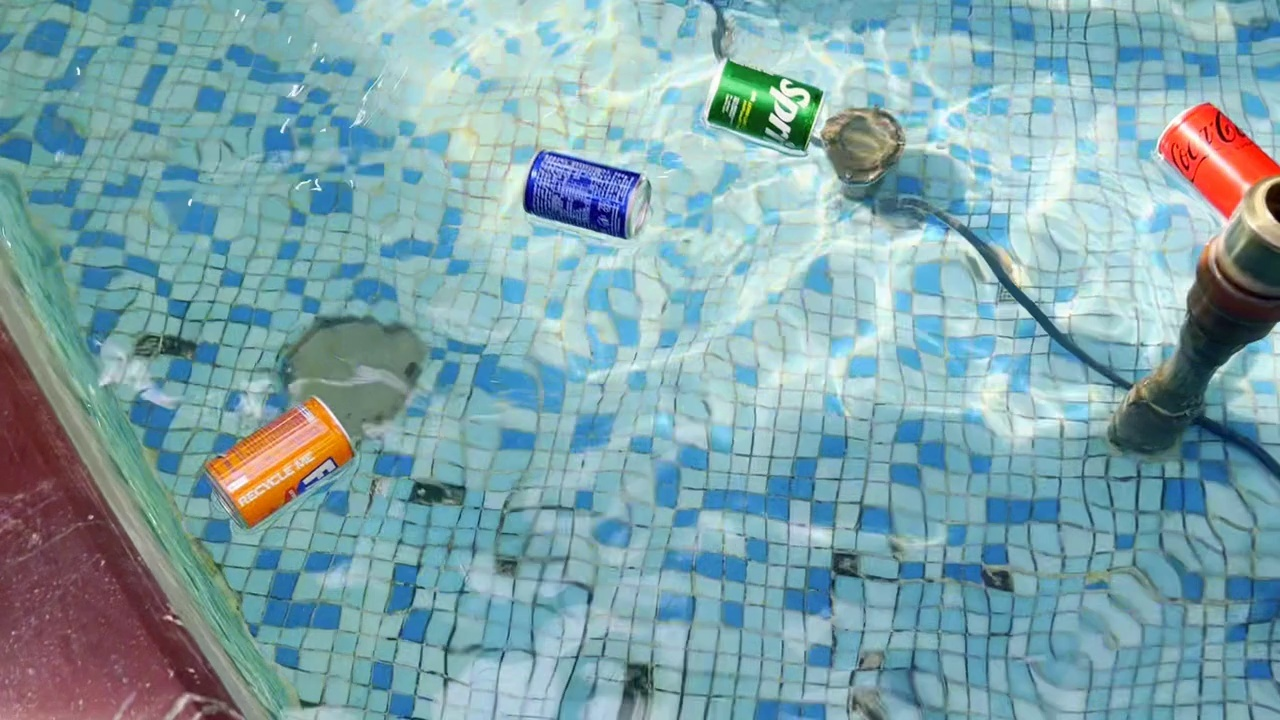debris: (193, 386, 365, 536), (1148, 88, 1280, 237), (509, 136, 656, 248), (695, 54, 830, 162)
